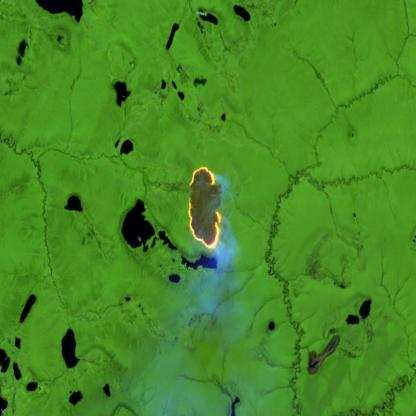fire: (181, 162, 223, 254)
